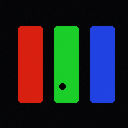0 point: (59, 83, 65, 89)
